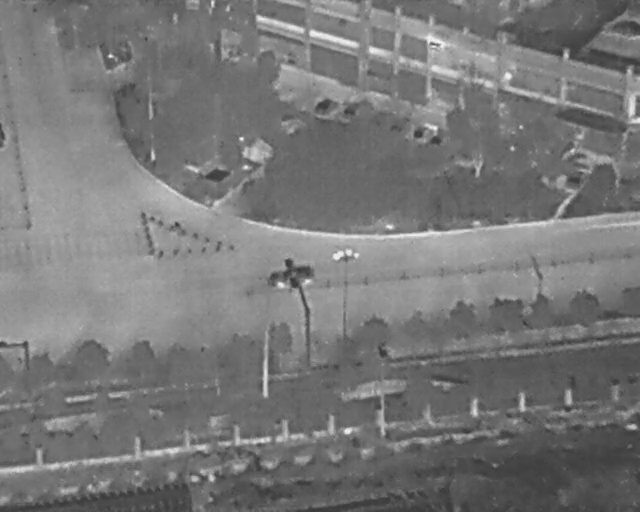Car: (265, 260, 318, 293), (308, 90, 342, 124), (409, 115, 440, 147), (339, 92, 370, 122), (561, 163, 588, 194)
